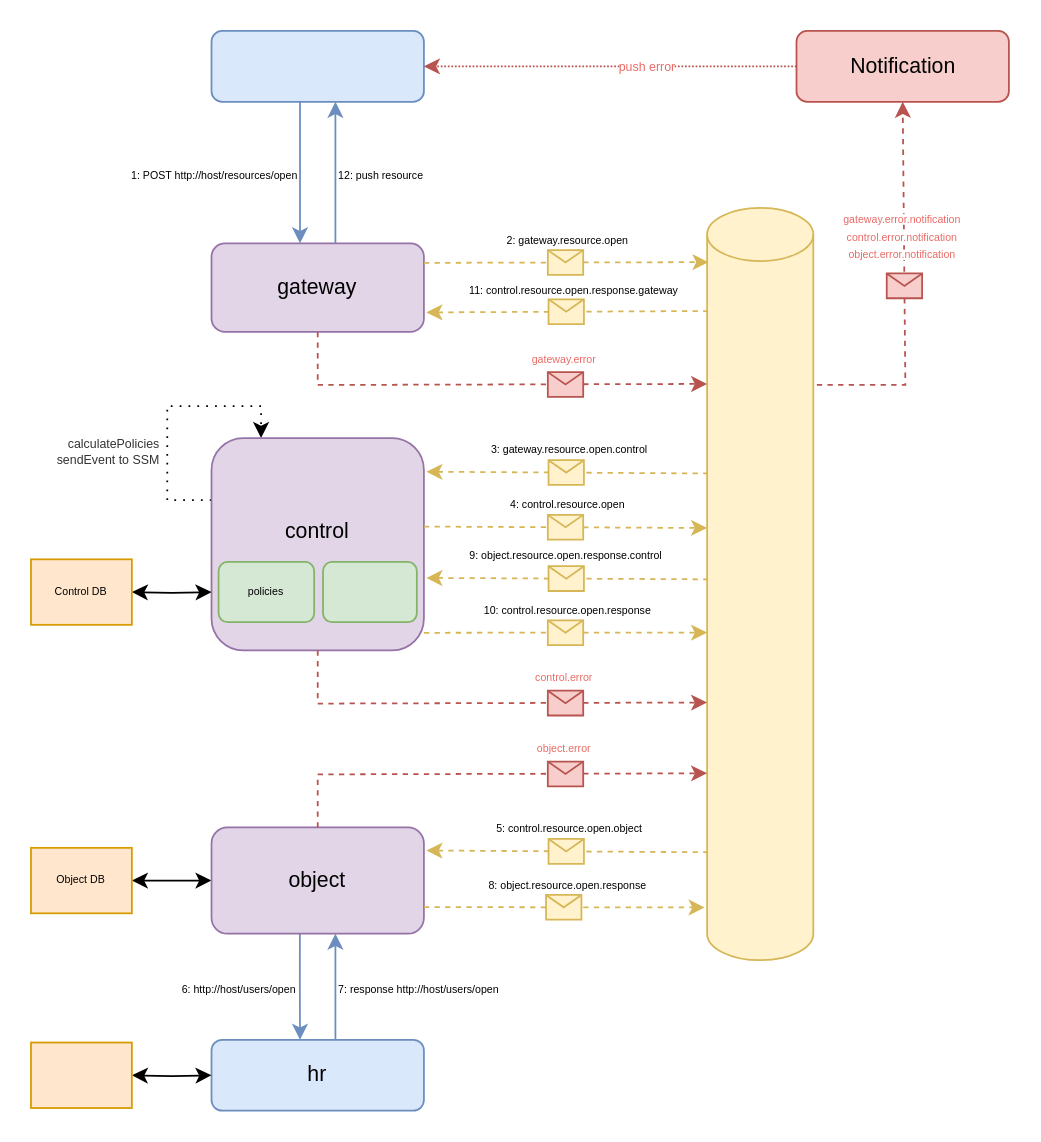
This 1041x1142 diagram has some shape labels left out. The box of each missing label's shape, as (x1, y1, x2, y2) in pixels:
AMQP: (705, 206, 813, 960)
front: (210, 29, 424, 102)
HR DB: (29, 1041, 132, 1108)
SSM: (321, 560, 417, 622)
